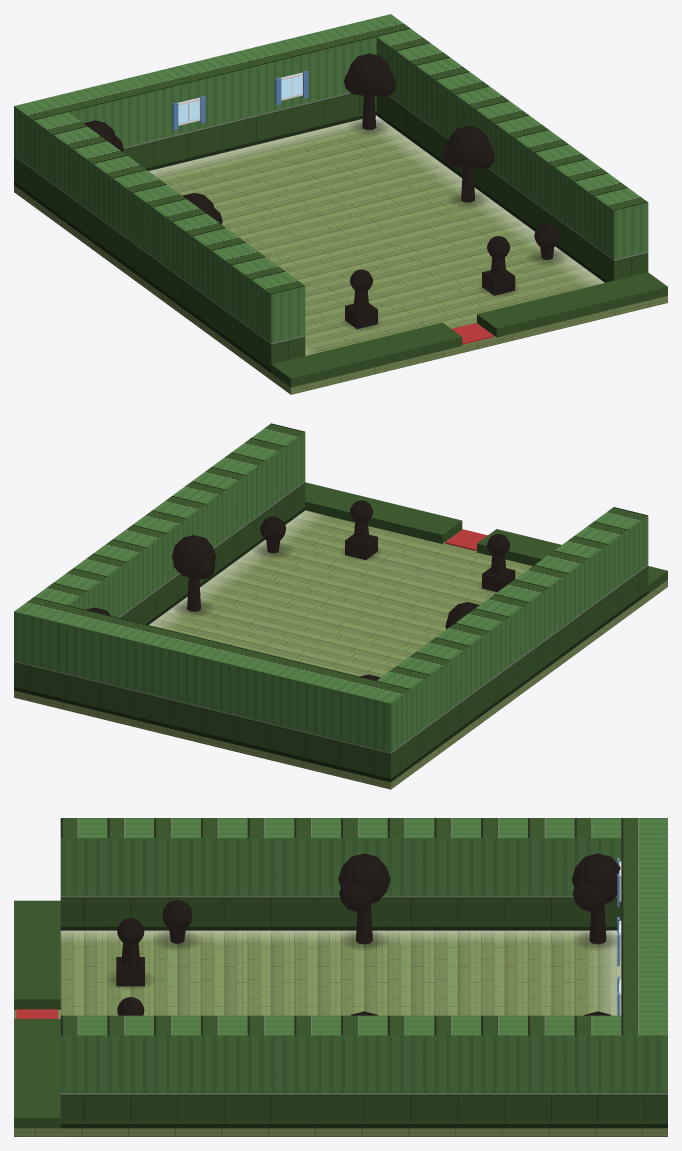
File: ginasio5.glb
3 views of the same model, one above another, from view 1: azimuth 30°, elevation 25°; view 2: azimuth 150°, elevation 25°; view 3: azimuth 270°, elevation 25° (orthographic). The views are drawn at different scales.
Parts seen in each view (by area): view 1: malha__semsombra (×46), malha__contorno (×4); view 2: malha__semsombra (×42), malha__contorno (×4); view 3: malha__semsombra (×46), malha__contorno (×9).
Part boxes in pixels (box(x1,y1,x2,y2)): malha__semsombra (×46): box(14, 14, 667, 394); malha__contorno (×4): box(345, 53, 515, 329); malha__semsombra (×42): box(14, 423, 667, 789); malha__contorno (×4): box(172, 516, 515, 592); malha__semsombra (×46): box(14, 818, 667, 1136); malha__contorno (×9): box(116, 853, 620, 986).
Bounding box in the file's own units: 11 × 2.4 × 14.
Materials: 28 (11 with a texture image).
